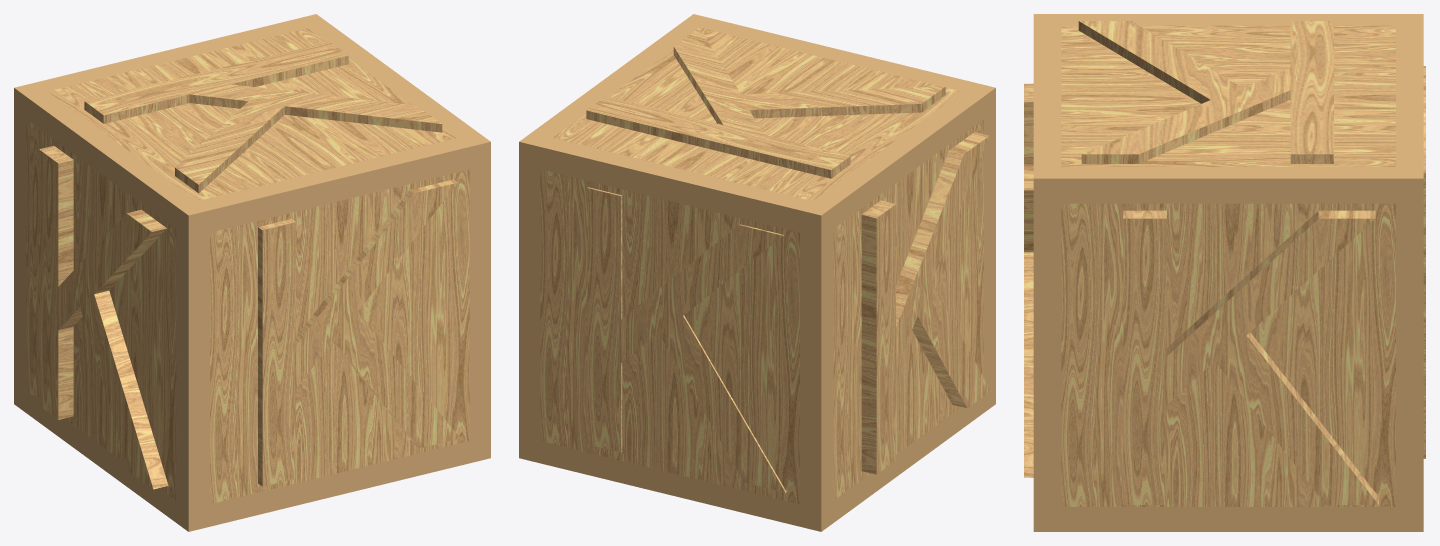
The model's file is Block K.fbx.
3 renders of one model, left to right at view 1: azimuth 30°, elevation 25°; view 2: azimuth 150°, elevation 25°; view 3: azimuth 270°, elevation 25°, orthographic. The views are drawn at different scales.
Parts seen in each view (by area): view 1: Box, FRONT, LEFT, TOP; view 2: Box, BACK, LEFT, TOP; view 3: Box, RIGHT, TOP, FRONT, BACK.
Boxes of the visible parts, x1,y1,x2,y2 form: Box: (14,14,490,531); FRONT: (258,179,460,486); LEFT: (39,146,168,489); TOP: (84,41,442,193); Box: (519,14,995,531); BACK: (587,187,786,492); LEFT: (861,132,990,474); TOP: (586,28,945,178); Box: (1033,14,1423,531); RIGHT: (1123,210,1378,504); TOP: (1078,21,1333,163); FRONT: (1024,83,1033,477); BACK: (1423,66,1425,458).
Bounding box in the file's own units: 1.1 × 1.04 × 1.03.
2 materials, 2 textured.
